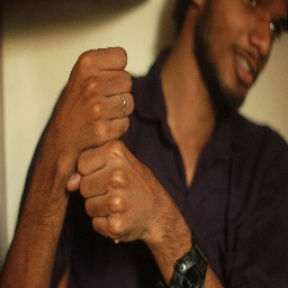G: (52, 41, 156, 249)
